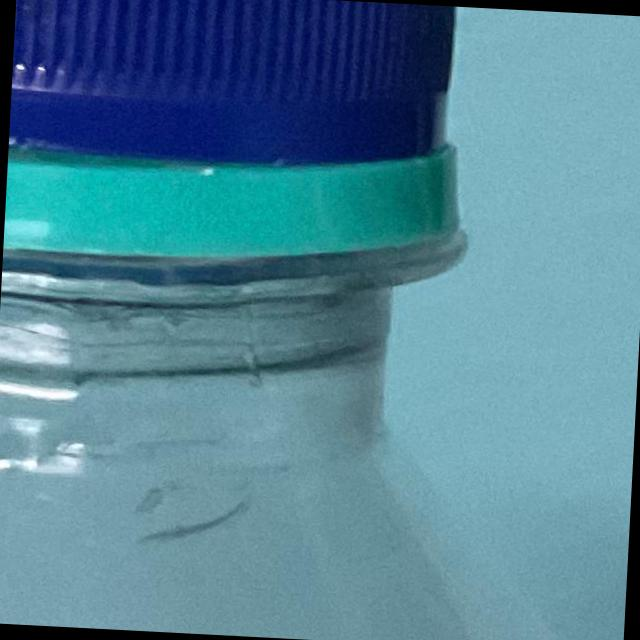Good-cap-Df0S: (1, 0, 486, 312)
